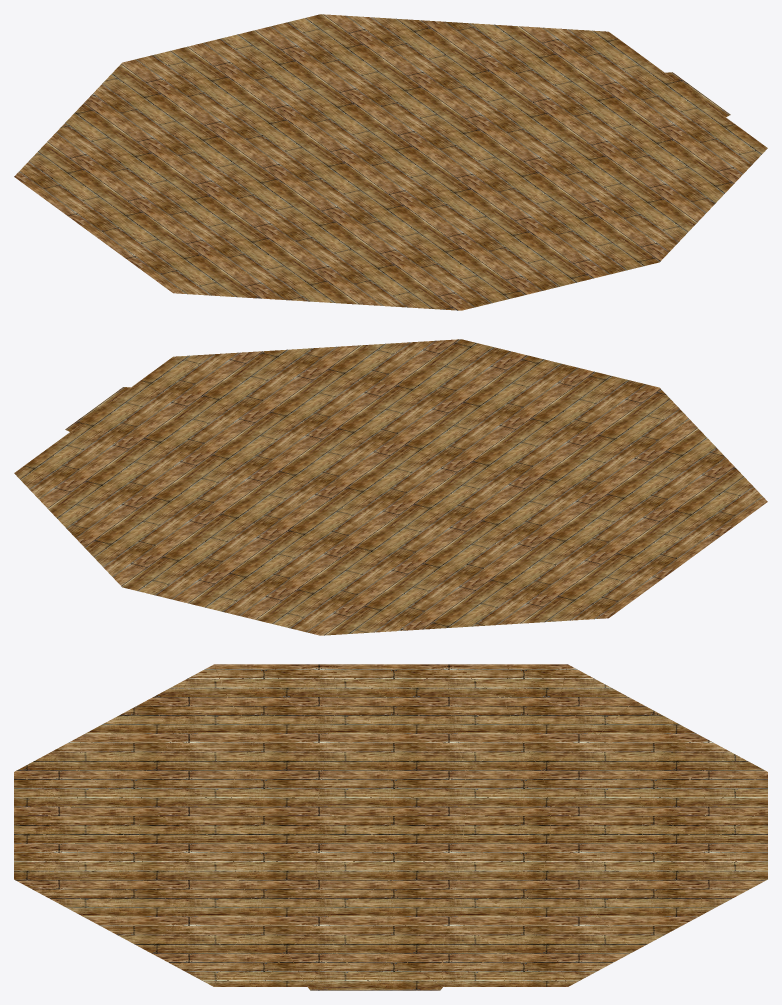
Rendered from LAKETOWN_WAREHOUSE2_PS_WH2_PRESSUREFLOOR3938.fbx.
3 views of the same model, one above another, from view 1: azimuth 30°, elevation 25°; view 2: azimuth 150°, elevation 25°; view 3: azimuth 270°, elevation 25° (orthographic). The views are drawn at different scales.
Parts seen in each view (by area): view 1: LAKETOWN_WAREHOUSE2_PS_WH2_PRESSUREFLOOR3938; view 2: LAKETOWN_WAREHOUSE2_PS_WH2_PRESSUREFLOOR3938; view 3: LAKETOWN_WAREHOUSE2_PS_WH2_PRESSUREFLOOR3938.
Boxes of the visible parts, box(x1,y1,x2,y2) form: LAKETOWN_WAREHOUSE2_PS_WH2_PRESSUREFLOOR3938: box(14, 14, 767, 310); LAKETOWN_WAREHOUSE2_PS_WH2_PRESSUREFLOOR3938: box(14, 339, 767, 635); LAKETOWN_WAREHOUSE2_PS_WH2_PRESSUREFLOOR3938: box(14, 664, 767, 990).
Size of the model in its own units: 178245 by 0.0893 by 174112.
Materials: 1 (1 with a texture image).
